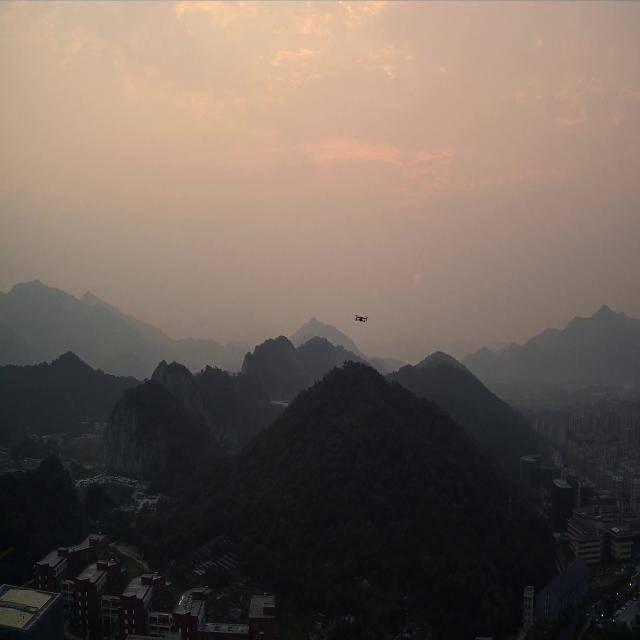drone: (354, 314, 369, 322)
